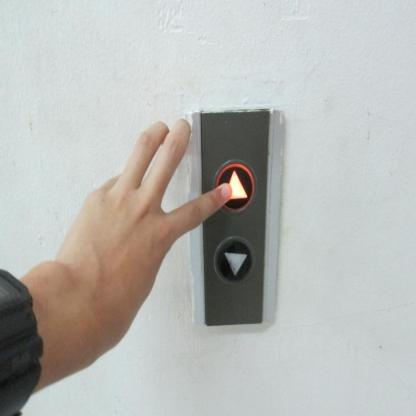down: (214, 233, 254, 286)
up: (213, 157, 257, 214)
